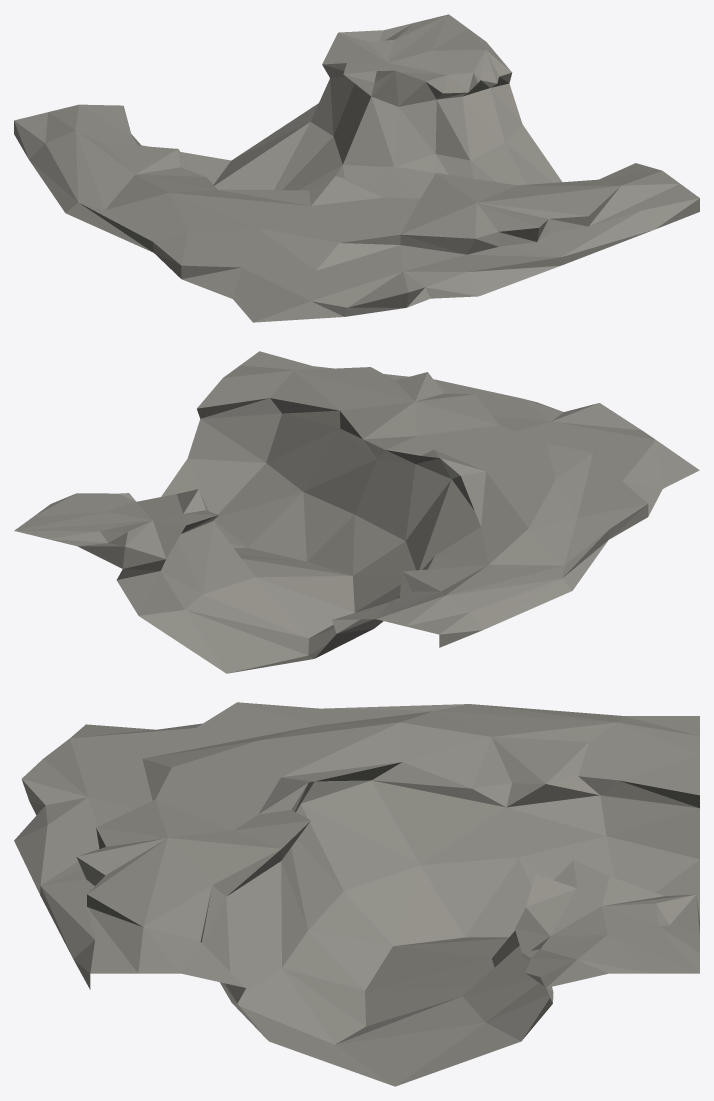
Rendered from river1.fbx.
The picture shows the model from 3 angles, top to bottom: view 1: azimuth 30°, elevation 25°; view 2: azimuth 150°, elevation 25°; view 3: azimuth 270°, elevation 25°; orthographic projection. The views are drawn at different scales.
Visible parts, largest first — view 1: river1; view 2: river1; view 3: river1.
Part boxes in pixels (<box>): river1: <box>14,14,699,322</box>; river1: <box>14,351,699,673</box>; river1: <box>14,702,699,1086</box>.
Bounding box in the file's own units: 549 × 128 × 563.
